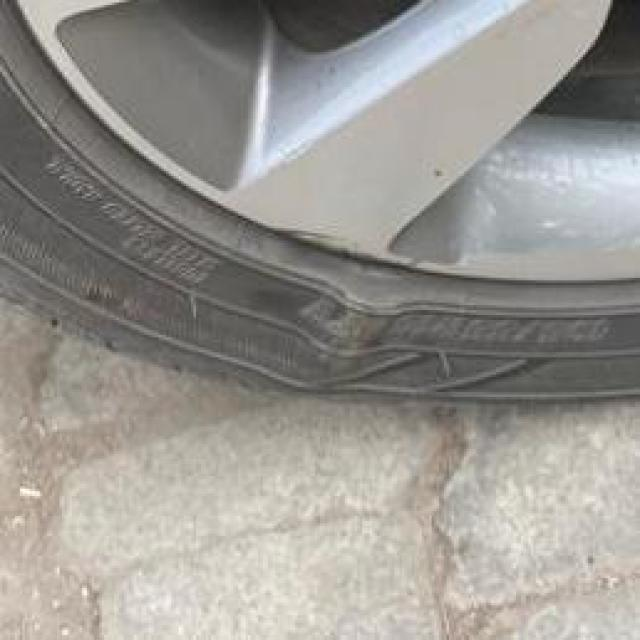Bulge: (285, 266, 400, 397)
